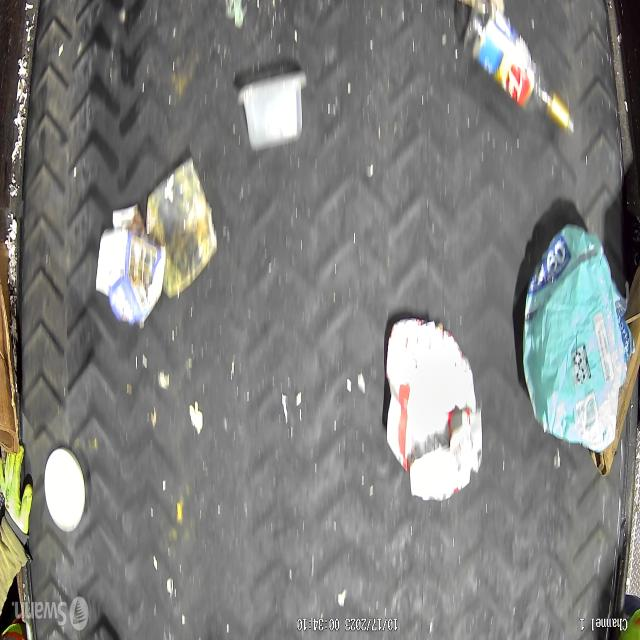plastic_bottle: (463, 11, 575, 138)
